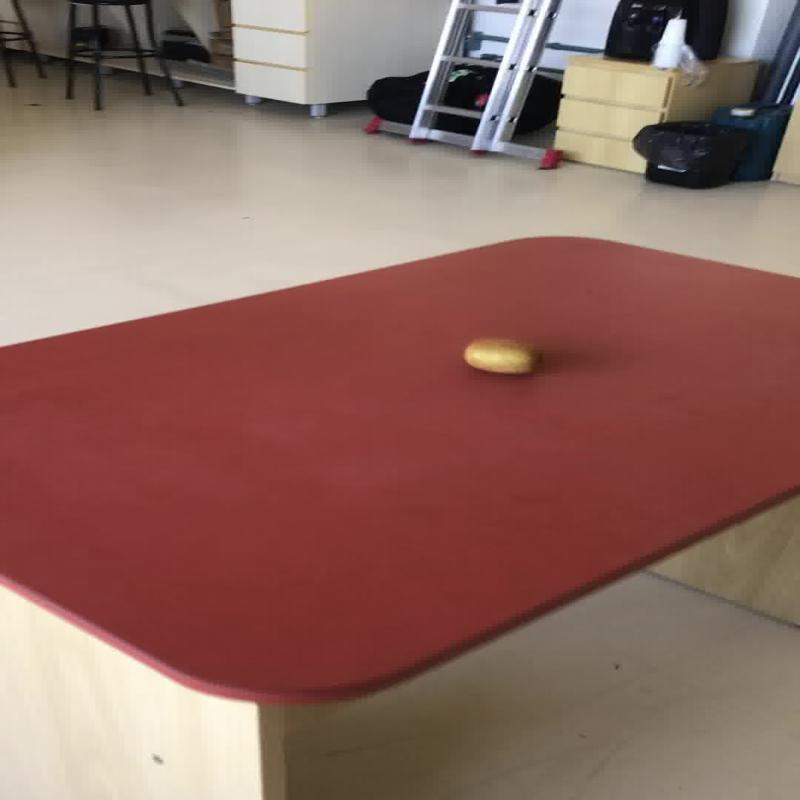kiwi: (462, 338, 537, 374)
